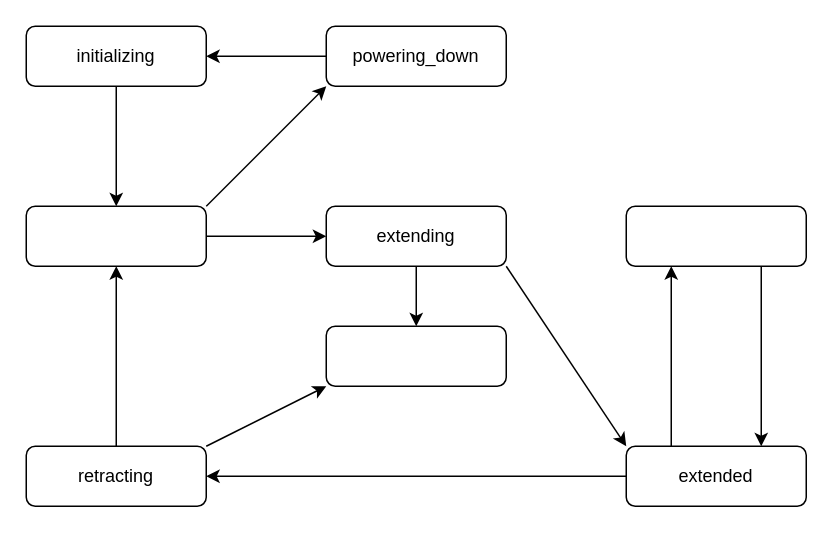
Image size: 833x533. Some labels were removed from this diagram. The shapes that lost their labels are listed below. From the top down, each one's centre as x and y in pixels, then its label:
(115,235): retracted
(715,235): calibrating
(415,355): no_position
